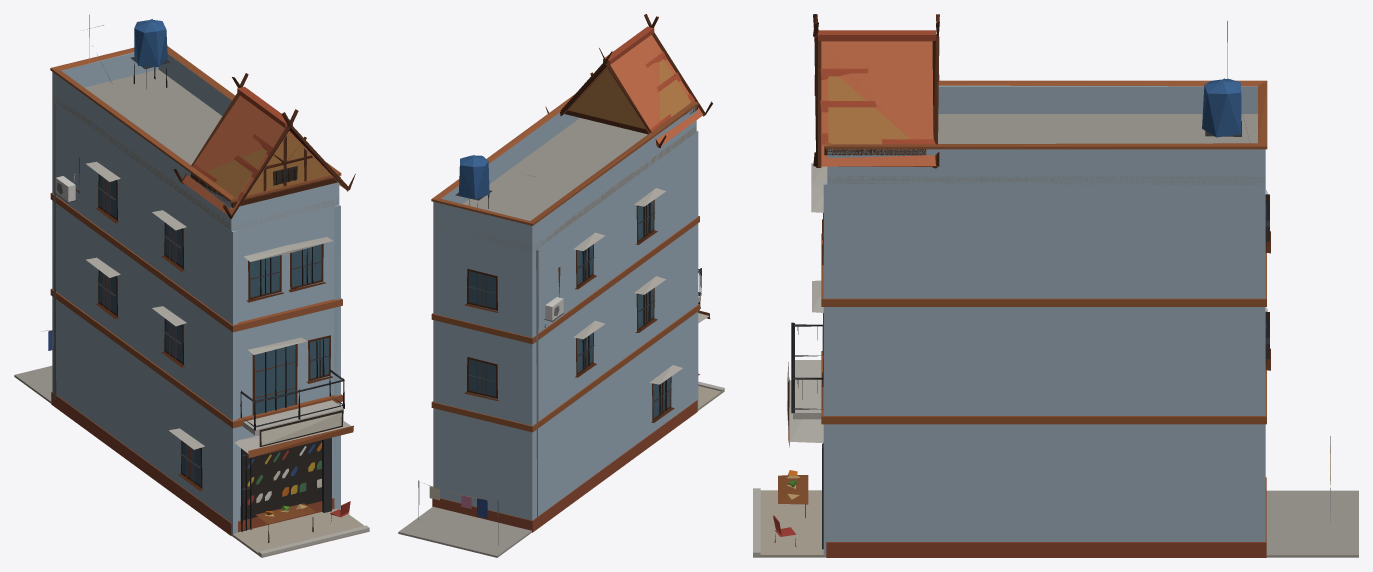
Rendered from bay2_left.glb.
The picture shows the model from 3 angles, left to right: view 1: azimuth 30°, elevation 25°; view 2: azimuth 150°, elevation 25°; view 3: azimuth 270°, elevation 25°; orthographic projection. The views are drawn at different scales.
Parts seen in each view (by area): view 1: body, windows; view 2: body, windows; view 3: body.
Part boxes in pixels (x1,y1,x2,y2): body: (14, 14, 369, 557); windows: (99, 166, 329, 520); body: (398, 14, 724, 557); windows: (468, 200, 670, 418); body: (753, 14, 1358, 557).
Size of the model in its own units: 4.95 by 14.73 by 15.9.
